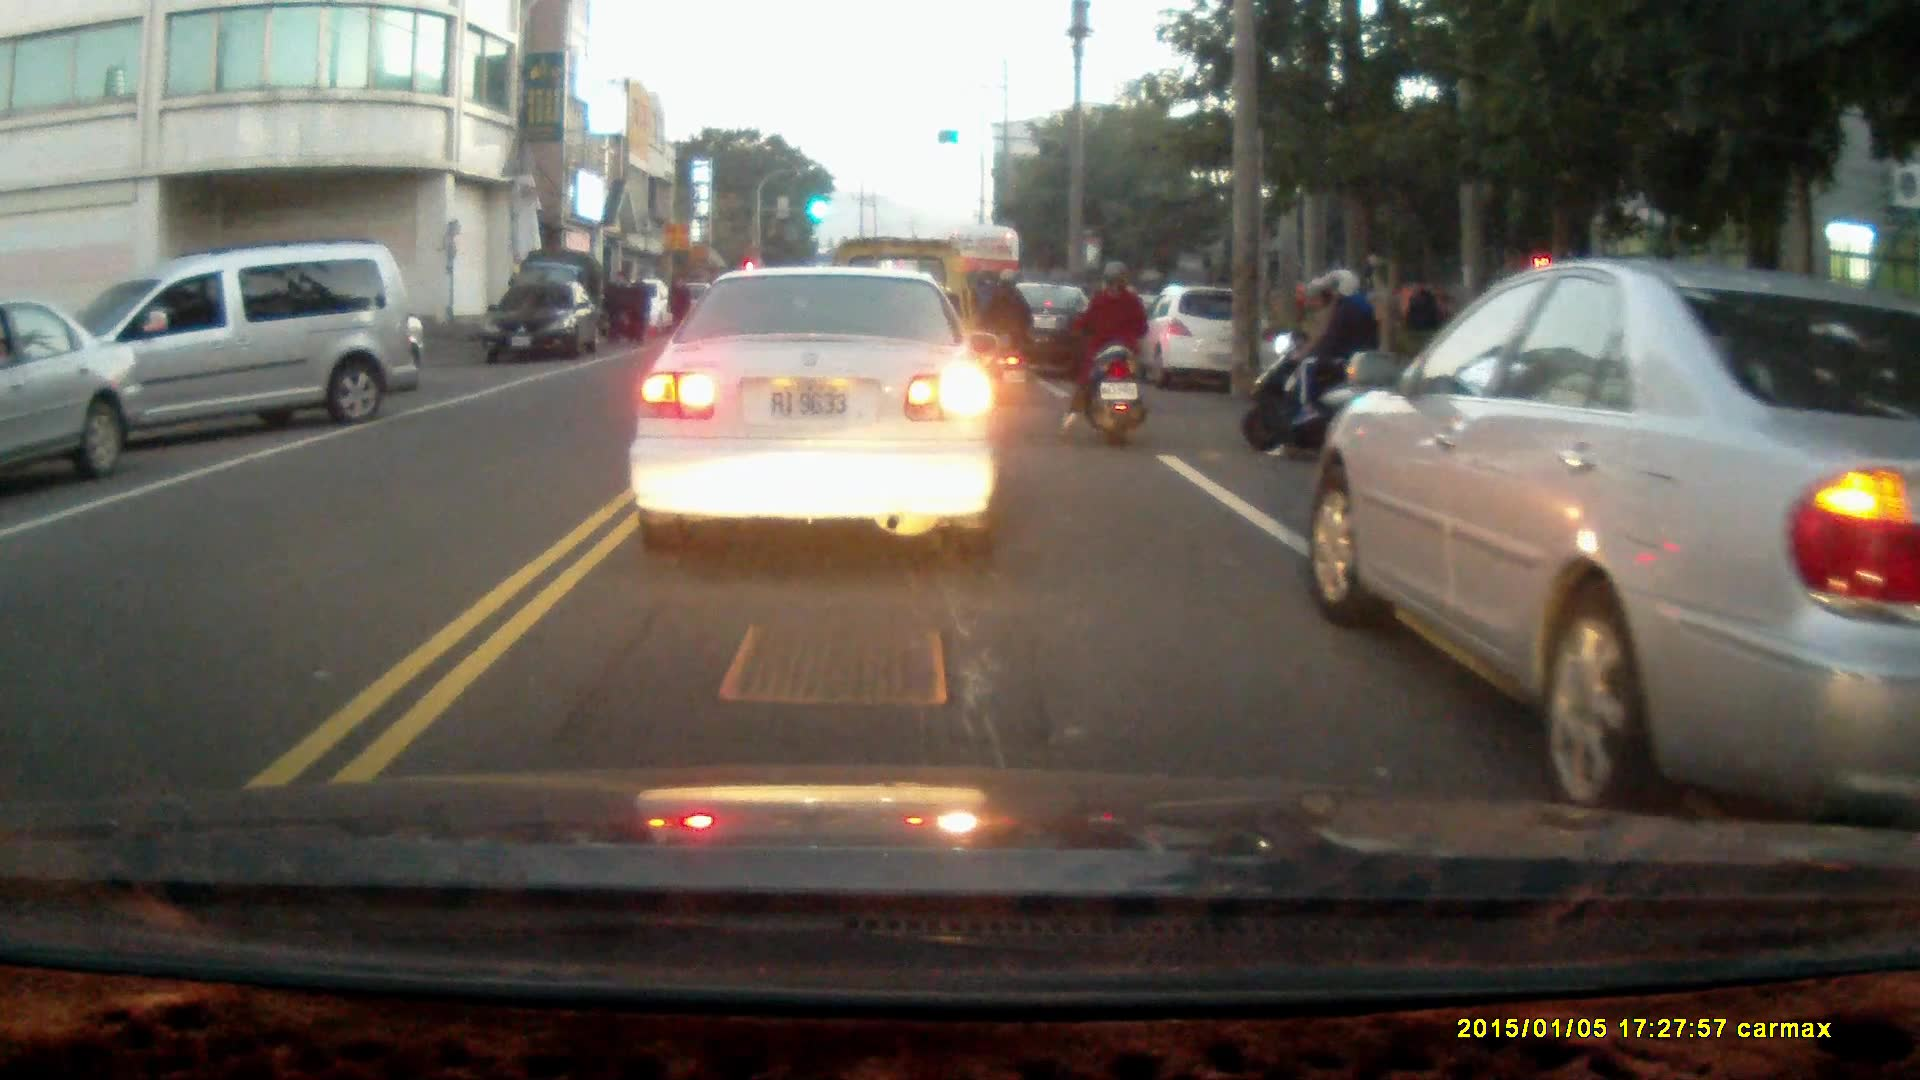pedestrian: (1402, 275, 1437, 364), (600, 271, 629, 350), (622, 272, 649, 350), (664, 272, 692, 341)
rider: (1241, 265, 1388, 462), (1054, 261, 1150, 447), (964, 269, 1029, 395)
vehicle: (1308, 256, 1920, 807), (637, 269, 1003, 572), (42, 247, 412, 458), (1, 300, 144, 482), (1136, 284, 1273, 396), (971, 285, 1111, 385), (488, 279, 608, 365)
